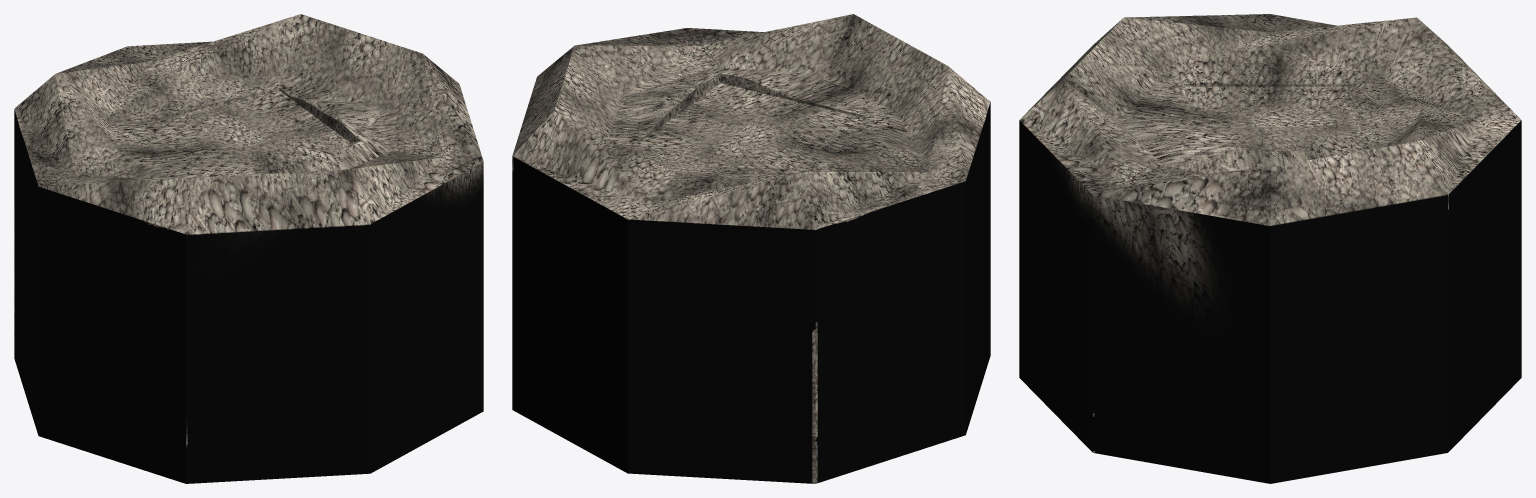
File: finalfloor.glb
3 renders of one model, left to right at view 1: azimuth 30°, elevation 25°; view 2: azimuth 150°, elevation 25°; view 3: azimuth 270°, elevation 25°, orthographic. The views are drawn at different scales.
Parts seen in each view (by area): view 1: Cylinder; view 2: Cylinder; view 3: Cylinder.
Boxes of the visible parts, x1,y1,x2,y2 form: Cylinder: (14,14,483,483); Cylinder: (512,14,990,483); Cylinder: (1019,14,1521,483).
Bounding box in the file's own units: 9.36 × 6.14 × 9.36.
Materials: 1 (1 with a texture image).
